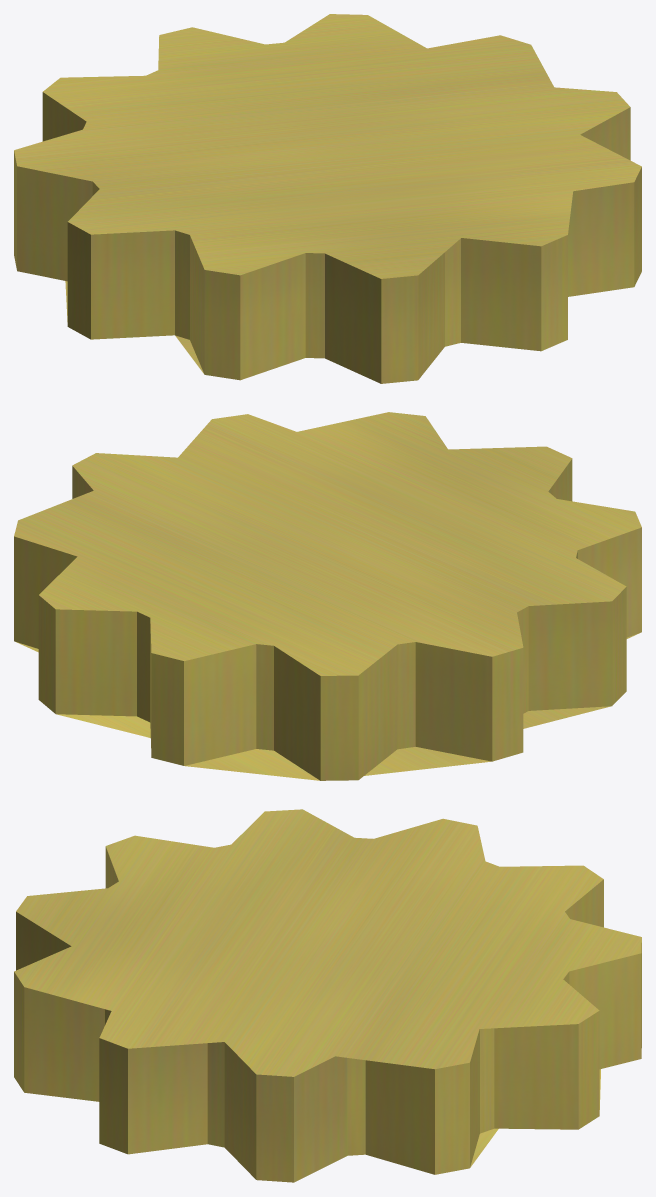
File: Cog6Spoke023.fbx
3 renders of one model, top to bottom at view 1: azimuth 30°, elevation 25°; view 2: azimuth 150°, elevation 25°; view 3: azimuth 270°, elevation 25°, orthographic.
Visible parts, largest first — view 1: Cog6Spoke023; view 2: Cog6Spoke023; view 3: Cog6Spoke023.
Boxes of the visible parts, box(x1,y1,x2,y2) form: Cog6Spoke023: box(14, 14, 641, 383); Cog6Spoke023: box(14, 412, 641, 780); Cog6Spoke023: box(14, 809, 641, 1182).
Size of the model in its own units: 107 by 19.69 by 106.
